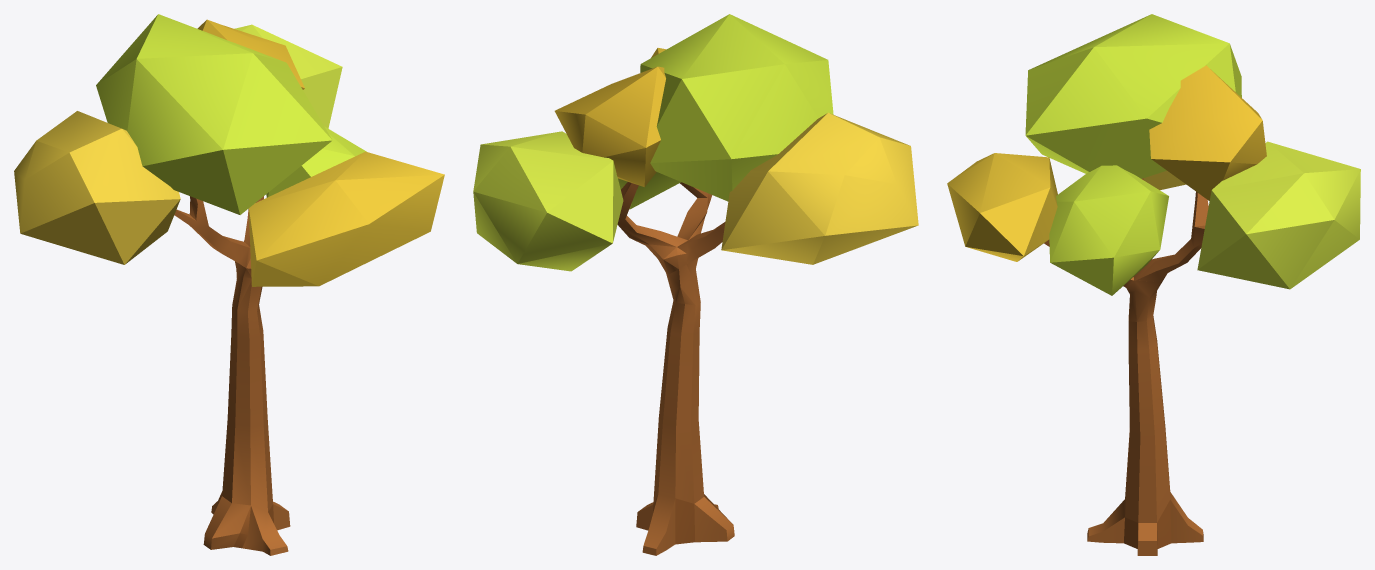
Rendered from Tree_01.fbx.
3 views of the same model, side by side, from view 1: azimuth 30°, elevation 25°; view 2: azimuth 150°, elevation 25°; view 3: azimuth 270°, elevation 25° (orthographic). The views are drawn at different scales.
Parts seen in each view (by area): view 1: Tree_01; view 2: Tree_01; view 3: Tree_01.
Part boxes in pixels (x1,y1,x2,y2): Tree_01: (14,14,444,555); Tree_01: (473,14,918,555); Tree_01: (947,14,1360,555).
Bounding box in the file's own units: 768 × 975 × 759.
